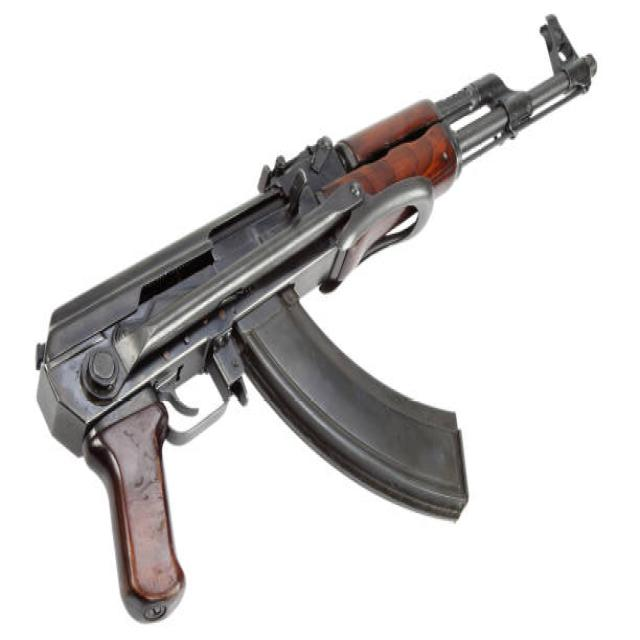rifle: (31, 3, 607, 637)
